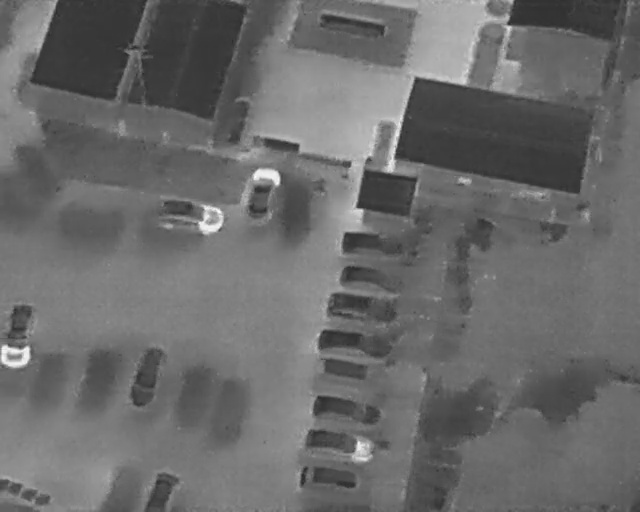Car: (339, 226, 419, 268), (314, 324, 393, 365), (323, 288, 398, 330), (125, 342, 171, 410), (303, 424, 374, 465), (293, 461, 364, 500), (338, 261, 408, 300), (310, 392, 383, 428), (159, 197, 224, 235), (241, 163, 280, 223), (2, 301, 35, 369), (140, 471, 180, 512)
